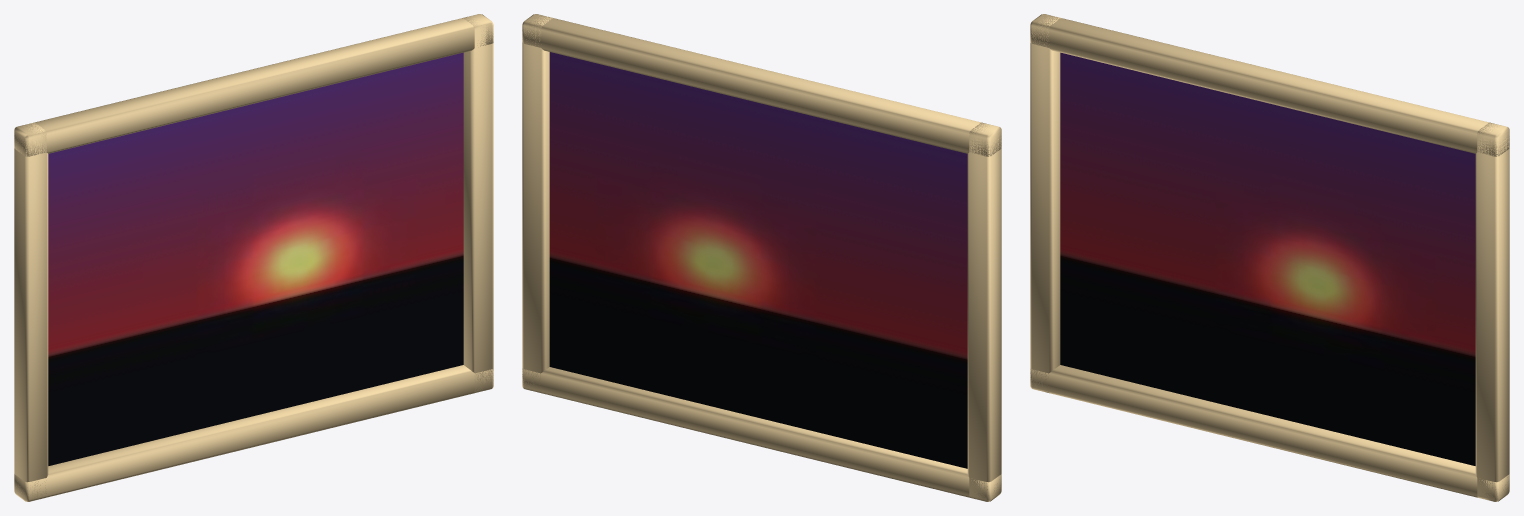
File: gallery_photo_4.glb
3 renders of one model, left to right at view 1: azimuth 30°, elevation 25°; view 2: azimuth 150°, elevation 25°; view 3: azimuth 330°, elevation 25°, orthographic.
Visible parts, largest first — view 1: Photo, Brass; view 2: Photo, Brass; view 3: Photo, Brass.
Part boxes in pixels (box(x1,y1,x2,y2)): Photo: box(48, 52, 463, 465); Brass: box(14, 14, 493, 501); Photo: box(549, 52, 967, 468); Brass: box(522, 14, 1001, 501); Photo: box(1060, 52, 1475, 465); Brass: box(1030, 14, 1509, 501).
Bounding box in the file's own units: 0.6 × 0.45 × 0.03.
Materials: 2 (1 with a texture image).
